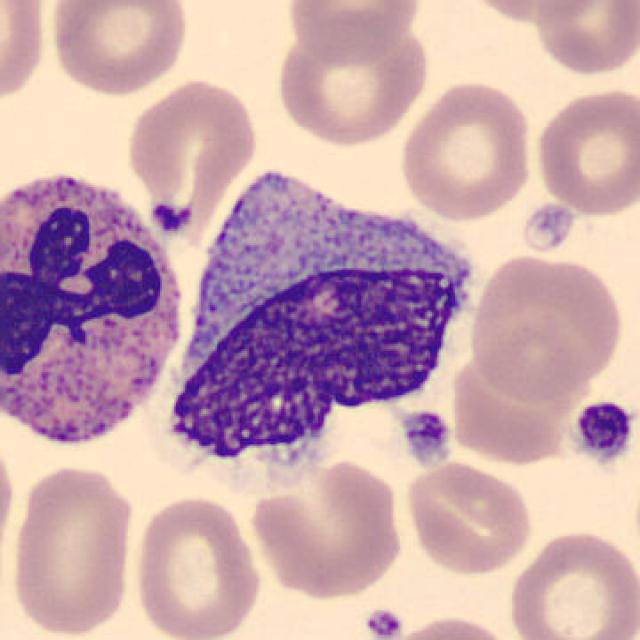eosinophil: (0, 177, 191, 434)
monocyte: (182, 167, 474, 467)
platelets: (389, 399, 452, 469), (574, 394, 628, 456), (364, 600, 437, 640), (522, 200, 582, 248)
rbc: (254, 461, 402, 601), (15, 464, 132, 639), (286, 17, 427, 158), (403, 75, 538, 220), (473, 260, 611, 400), (124, 84, 246, 221), (136, 502, 256, 640), (48, 0, 196, 107), (454, 352, 576, 470), (405, 464, 530, 573), (537, 82, 637, 215), (520, 534, 640, 640), (284, 0, 432, 71), (523, 0, 638, 76), (0, 0, 41, 116), (482, 0, 595, 36)
